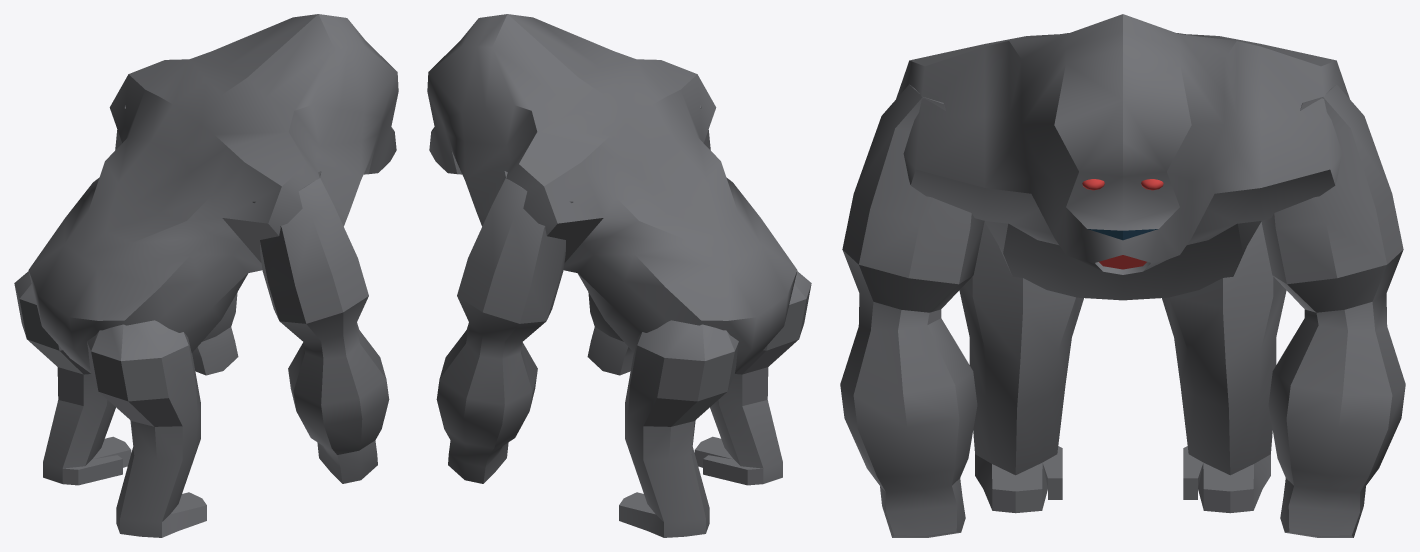
The model's file is gorilla.fbx.
3 renders of one model, left to right at view 1: azimuth 30°, elevation 25°; view 2: azimuth 150°, elevation 25°; view 3: azimuth 270°, elevation 25°, orthographic. The views are drawn at different scales.
Visible parts, largest first — view 1: Body, Leg, Arm; view 2: Body, Leg, Arm; view 3: Body, Arm, Leg.
Part boxes in pixels (x1,y1,x2,y2): Body: [28, 14, 398, 373]; Leg: [14, 271, 206, 537]; Arm: [115, 105, 389, 483]; Body: [427, 14, 797, 373]; Leg: [619, 271, 811, 537]; Arm: [436, 105, 710, 483]; Body: [896, 14, 1349, 300]; Arm: [840, 84, 1405, 537]; Leg: [959, 222, 1286, 513].
Size of the model in its own units: 326 by 404 by 342.
